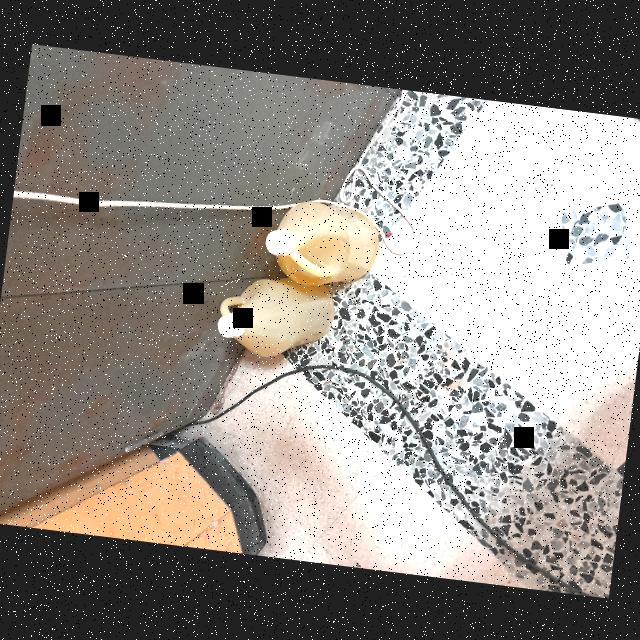chemical_plastic_gallon: (181, 263, 343, 385), (257, 184, 388, 298)
